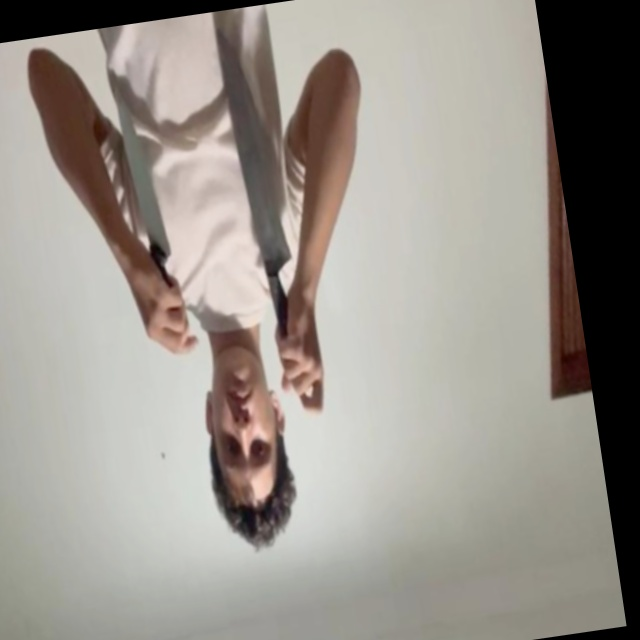Sharp-Object: (216, 25, 294, 277), (116, 95, 172, 266)
